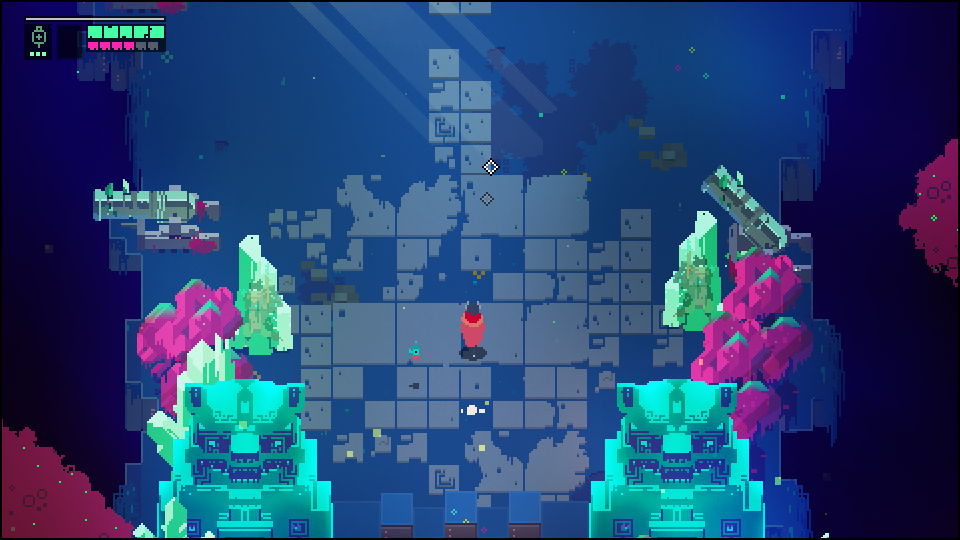player: (457, 297, 487, 360)
